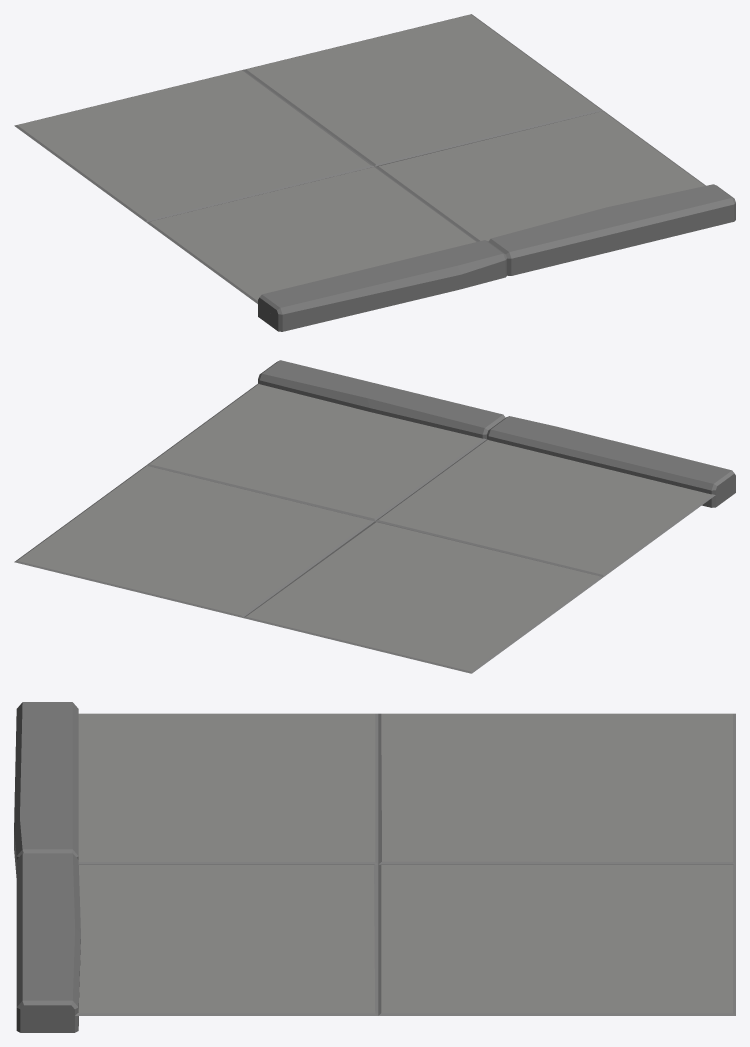
The model's file is SM_Envr_Road_Sidewalk_01.fbx.
The picture shows the model from 3 angles, top to bottom: view 1: azimuth 30°, elevation 25°; view 2: azimuth 150°, elevation 25°; view 3: azimuth 270°, elevation 25°; orthographic projection. The views are drawn at different scales.
Visible parts, largest first — view 1: SM_Envr_Road_Sidewalk_01; view 2: SM_Envr_Road_Sidewalk_01; view 3: SM_Envr_Road_Sidewalk_01.
Part boxes in pixels (x1,y1,x2,y2): SM_Envr_Road_Sidewalk_01: [14, 14, 735, 331]; SM_Envr_Road_Sidewalk_01: [14, 360, 735, 673]; SM_Envr_Road_Sidewalk_01: [14, 702, 735, 1032].
Size of the model in its own units: 500 by 25.53 by 505.
